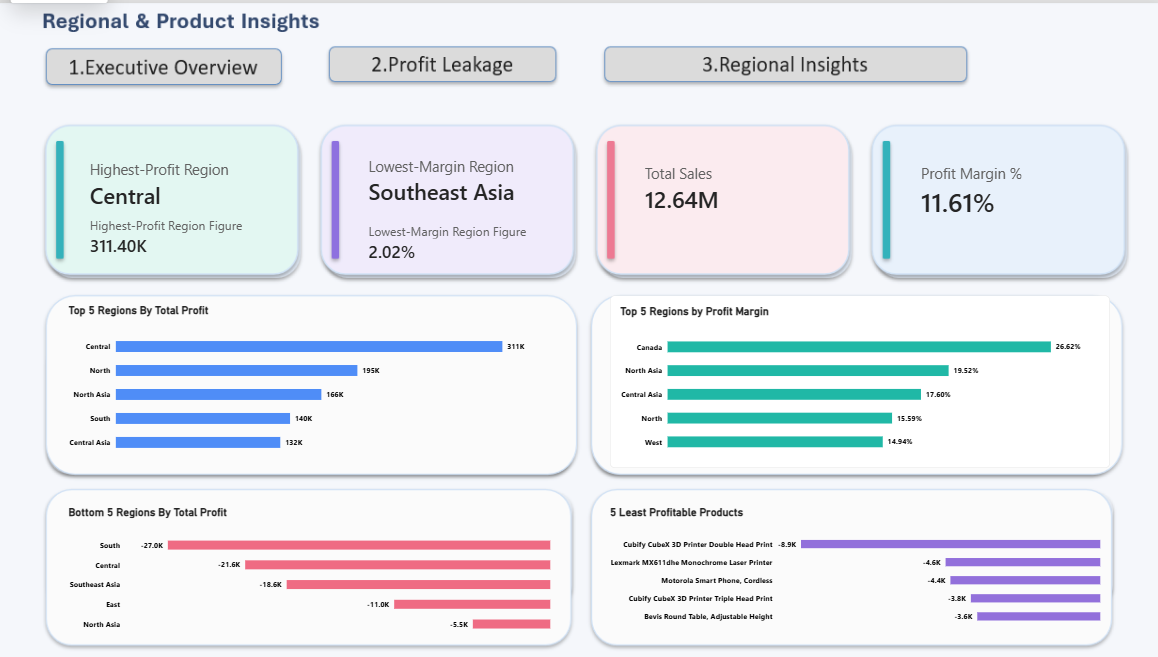

Layout of this report page (visuals, bound fields, positions):
{"tool":"powerbi","page":{"name":"Regional & Product Insights","canvas":[1920,1080],"ordinal":2},"visuals":[{"type":"cardVisual","fields":{"Data":["Superstore.Highest-Profit Region"]},"box":[140,238.8,279.9,123.5],"z":0},{"type":"actionButton","box":[86.4,76.2,384.9,59.7],"z":1},{"type":"actionButton","box":[547.5,76.2,382.8,59.7],"z":2},{"type":"cardVisual","fields":{"Data":["Superstore.Lowest-Margin Region"]},"box":[599,238.8,279.9,111.1],"z":3},{"type":"cardVisual","fields":{"Data":["Superstore.Total Sales"]},"box":[1053.9,238.8,279.9,135.8],"z":4},{"type":"cardVisual","fields":{"Data":["Superstore.Profit Margin %"]},"box":[1508.8,238.8,279.9,142],"z":5},{"type":"cardVisual","fields":{"Data":["Superstore.Lowest-Margin Region Figure"]},"box":[599,362.3,292.3,67.9],"z":6},{"type":"cardVisual","fields":{"Data":["Superstore.Highest-Profit Region Figure"]},"box":[140,341.7,300.5,88.5],"z":7},{"type":"clusteredBarChart","title":"Top 5 Regions By Total Profit","fields":{"Category":["Superstore.Region"],"Y":["Superstore.Total Profit"]},"box":[105,481.6,825.4,284],"z":8},{"type":"clusteredBarChart","title":"Top 5 Regions by Profit Margin","fields":{"Category":["Superstore.Region"],"Y":["Superstore.Profit Margin %"]},"box":[1012.7,481.6,823.3,284],"z":9},{"type":"clusteredBarChart","title":"Bottom 5 Regions By Total Profit","fields":{"Category":["Superstore.Region"],"Y":["Superstore.Total Profit"]},"box":[105,813,825.4,247],"z":10},{"type":"clusteredBarChart","title":"5 Least Profitable Products","fields":{"Category":["Superstore.Product_Name"],"Y":["Sum(Superstore.Profit)"]},"box":[996.2,813,839.8,232.6],"z":11}]}

Visuals, with their boxes in screenshot pixels (x1, y1, x2, y2), scaled from the page's 1920x1080 canvas onto the 1158x657 screenshot:
cardVisual - Superstore.Highest-Profit Region: 84 145 253 220
actionButton: 52 46 284 83
actionButton: 330 46 561 83
cardVisual - Superstore.Lowest-Margin Region: 361 145 530 213
cardVisual - Superstore.Total Sales: 636 145 804 228
cardVisual - Superstore.Profit Margin %: 910 145 1079 232
cardVisual - Superstore.Lowest-Margin Region Figure: 361 220 538 262
cardVisual - Superstore.Highest-Profit Region Figure: 84 208 266 262
"Top 5 Regions By Total Profit" clusteredBarChart: 63 293 561 466
"Top 5 Regions by Profit Margin" clusteredBarChart: 611 293 1107 466
"Bottom 5 Regions By Total Profit" clusteredBarChart: 63 495 561 645
"5 Least Profitable Products" clusteredBarChart: 601 495 1107 636
